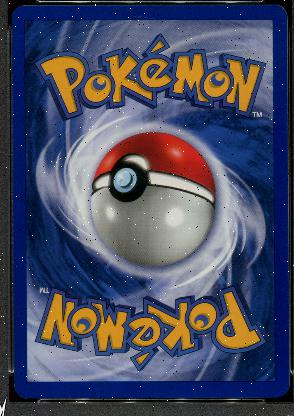Card: (9, 2, 291, 400)
Corner Wear: (12, 382, 28, 400)
